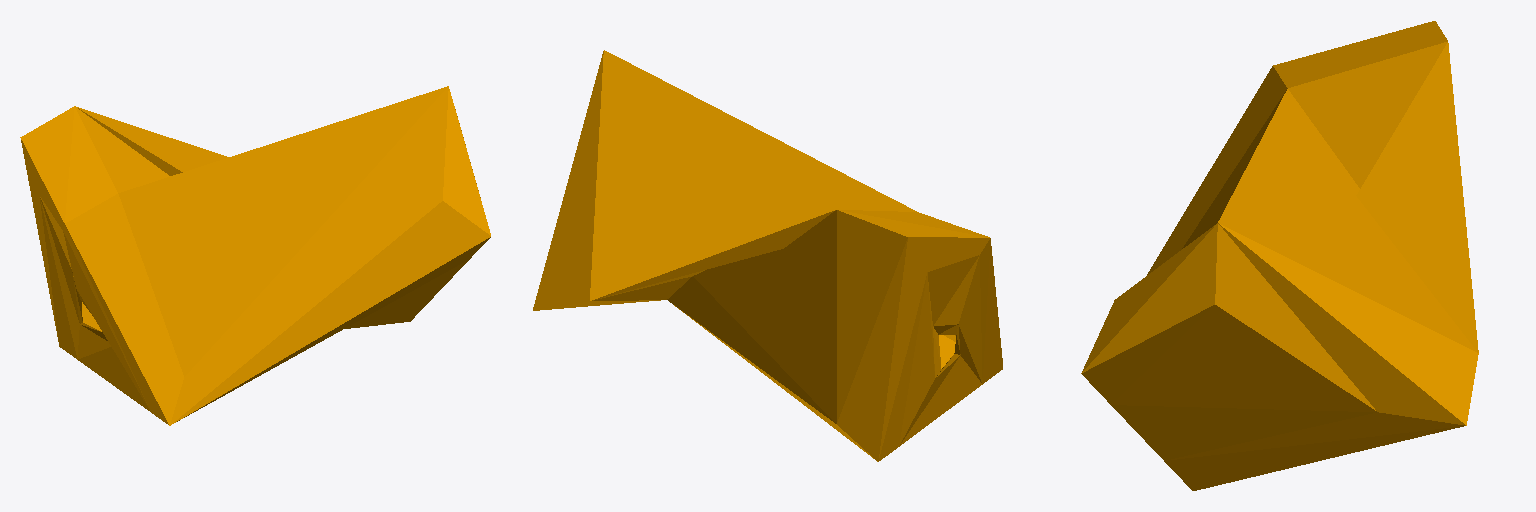
The robot description file, URDF, robot "mesh_object":
<robot name="mesh_object">
            <link name="base">
                <visual>
                    <geometry>
                        <mesh filename="envelope_0_v000.obj" scale="1 1 1" />
                    </geometry>
                </visual>
                <collision>
                    <geometry>
                        <mesh filename="envelope_0_v000.obj" scale="1 1 1" />
                    </geometry>
                </collision>
                <inertial>
                    <origin xyz="0.000000 0.000000 0.029492" rpy="0 0 0" />
                    <mass value="0.500000" />
                    <inertia ixx="0.01" iyy="0.01" izz="0.01" ixy="0" ixz="0" iyz="0" />
                </inertial>
            </link>
            </robot>

--- What the picture shows (computed from the rendered views, not written in the file) ---
Views: 3 orthographic renders of the robot side by side, from view 1: azimuth 30°, elevation 25°; view 2: azimuth 150°, elevation 25°; view 3: azimuth 270°, elevation 25°.
Robot: mesh_object — 1 links, 0 joints (none); root link base; default pose: all joints at 0.
Visible links, largest first — view 1: base; view 2: base; view 3: base.
Link boxes in pixels (x1=…): base: x1=20, y1=86, x2=490, y2=425; base: x1=533, y1=50, x2=1002, y2=461; base: x1=1081, y1=21, x2=1478, y2=490.
Bounding box of the posed robot: 0.0985 × 0.0651 × 0.059 m (x, y, z).
1 mesh visuals loaded from 1 distinct referenced files (1 OBJ).
